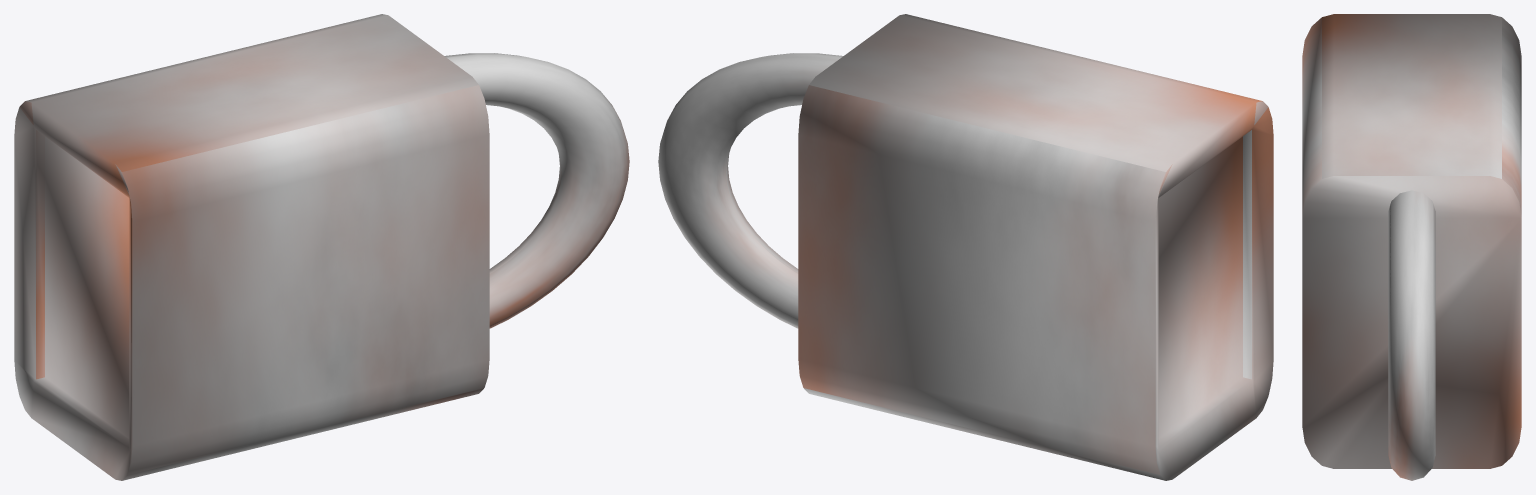
The model's file is Combination Lock (LowPoly).fbx.
3 views of the same model, side by side, from view 1: azimuth 30°, elevation 25°; view 2: azimuth 150°, elevation 25°; view 3: azimuth 270°, elevation 25° (orthographic). The views are drawn at different scales.
Visible parts, largest first — view 1: Body, Clasp; view 2: Body, Clasp; view 3: Body, Clasp.
Part boxes in pixels (left/top/right/bottom): Body: left=14, top=14, right=489, bottom=480; Clasp: left=444, top=53, right=629, bottom=328; Body: left=798, top=14, right=1273, bottom=480; Clasp: left=658, top=53, right=843, bottom=328; Body: left=1302, top=14, right=1521, bottom=468; Clasp: left=1388, top=190, right=1435, bottom=480.
Size of the model in its own units: 359 by 195 by 132.
